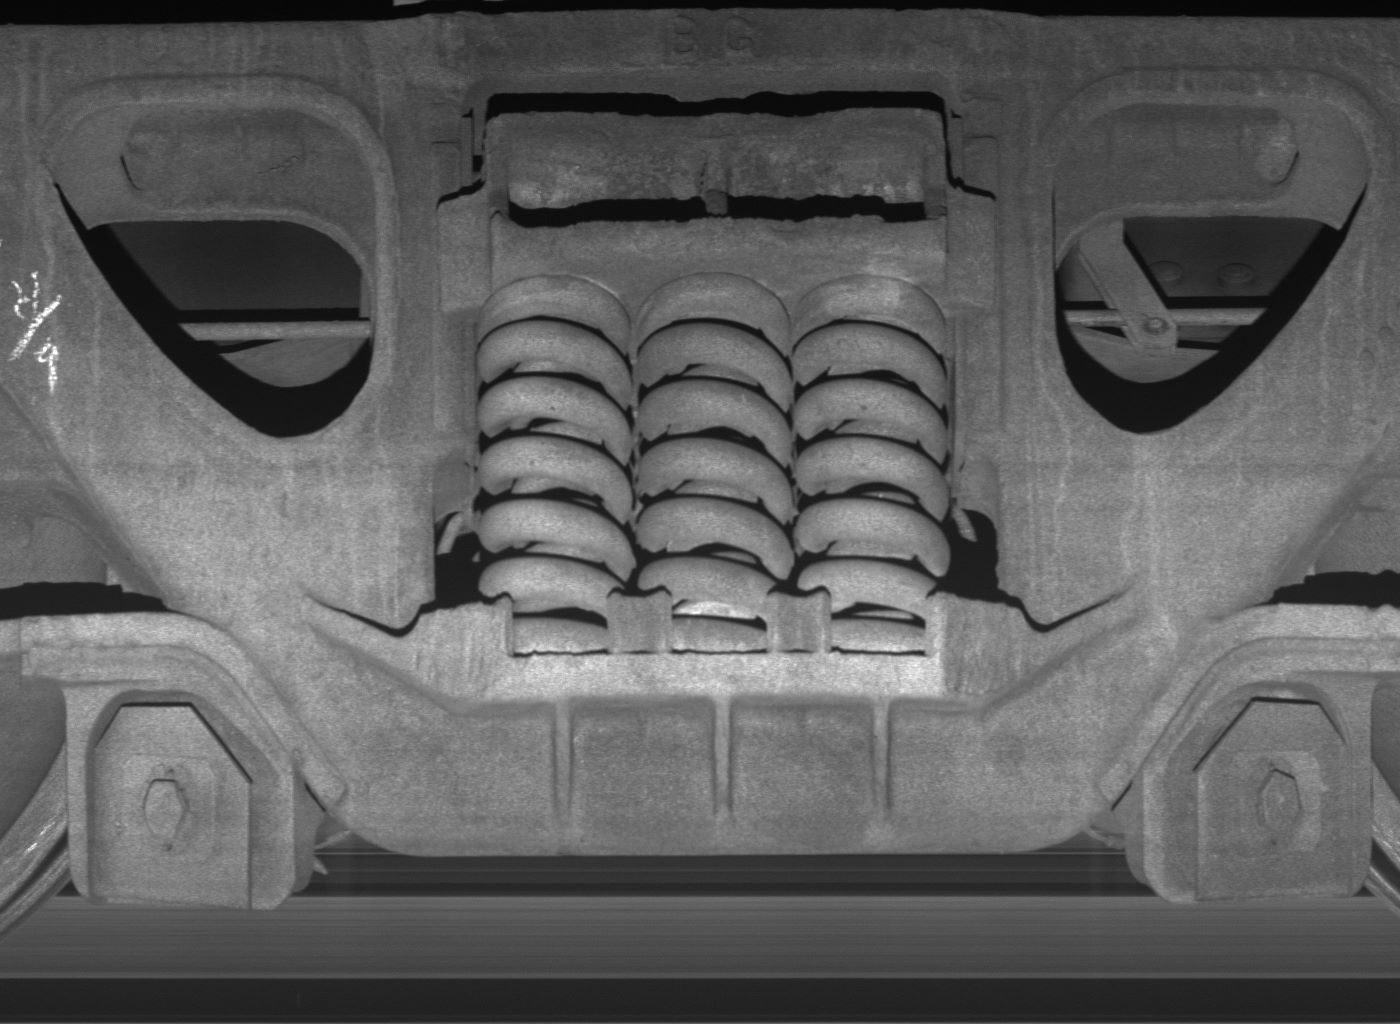normal: (67, 691, 297, 915), (1145, 682, 1373, 901)
